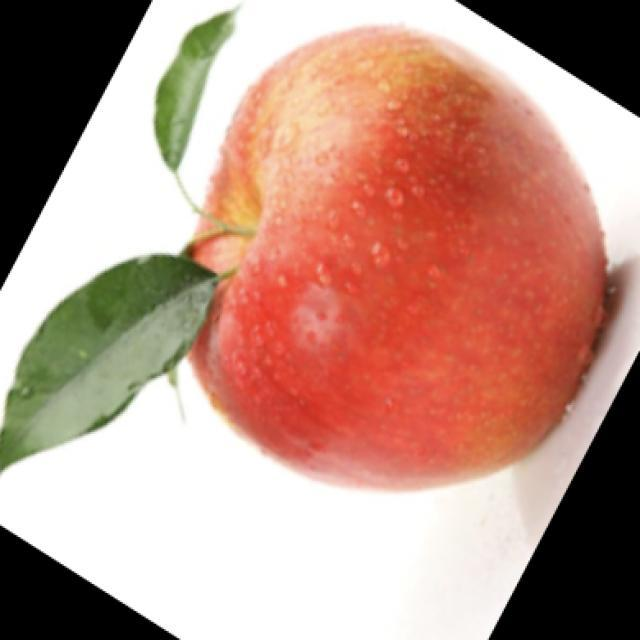Fresh Apple: (161, 6, 608, 494)
